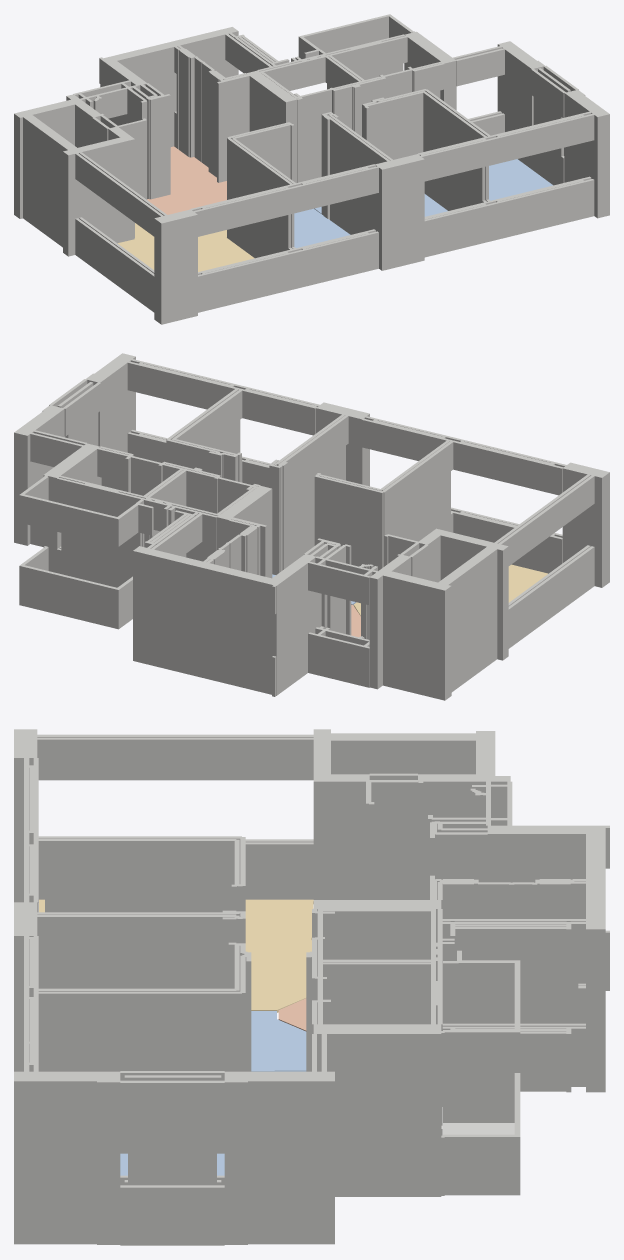
3 views of the same model, one above another, from view 1: azimuth 30°, elevation 25°; view 2: azimuth 150°, elevation 25°; view 3: azimuth 270°, elevation 25° (orthographic). The views are drawn at different scales.
Visible parts, largest first — view 1: walls, room:kitchen:0, room:living:6, room:bedroom:9, room:bedroom:7; view 2: walls, room:living:6; view 3: walls, room:living:6, room:bedroom:7, room:ledge:3.
Part boxes in pixels (left/top/right/bottom): walls: left=14, top=14, right=609, bottom=324; room:kitchen:0: left=147, top=146, right=226, bottom=214; room:living:6: left=118, top=223, right=254, bottom=271; room:bedroom:9: left=489, top=159, right=552, bottom=200; room:bedroom:7: left=294, top=208, right=350, bottom=248; walls: left=14, top=353, right=609, bottom=700; room:living:6: left=353, top=564, right=547, bottom=615; walls: left=14, top=729, right=609, bottom=1245; room:living:6: left=39, top=899, right=313, bottom=1012; room:bedroom:7: left=251, top=1011, right=306, bottom=1071; room:ledge:3: left=443, top=1123, right=514, bottom=1134.
Size of the model in its own units: 13.03 by 2.8 by 9.29.
